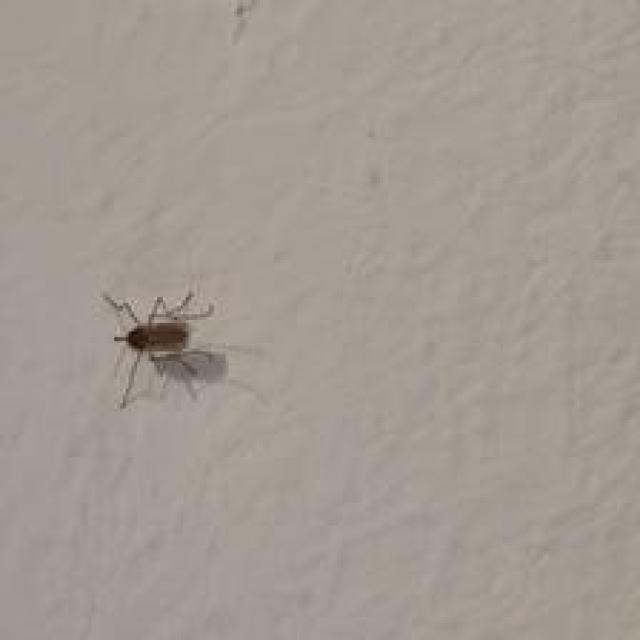Culex: (99, 287, 227, 410)
